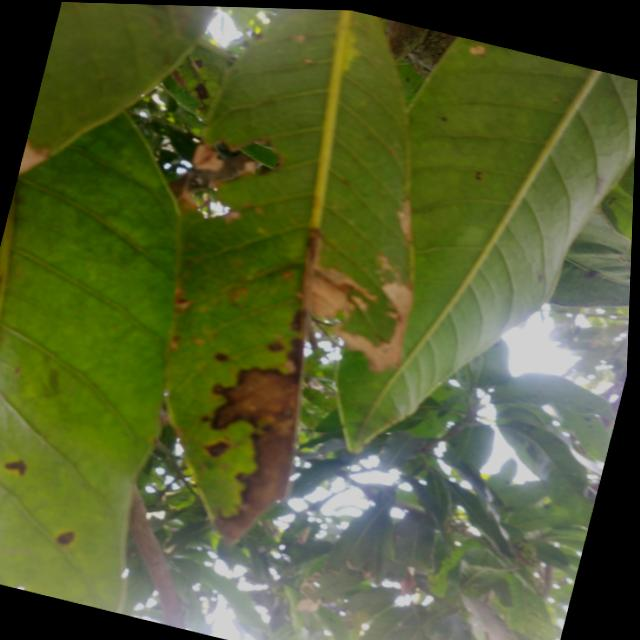Anthracnose: (214, 341, 299, 546), (0, 451, 31, 477), (53, 525, 77, 548)
Bacterial Cancer: (289, 253, 417, 363), (188, 121, 281, 204)
